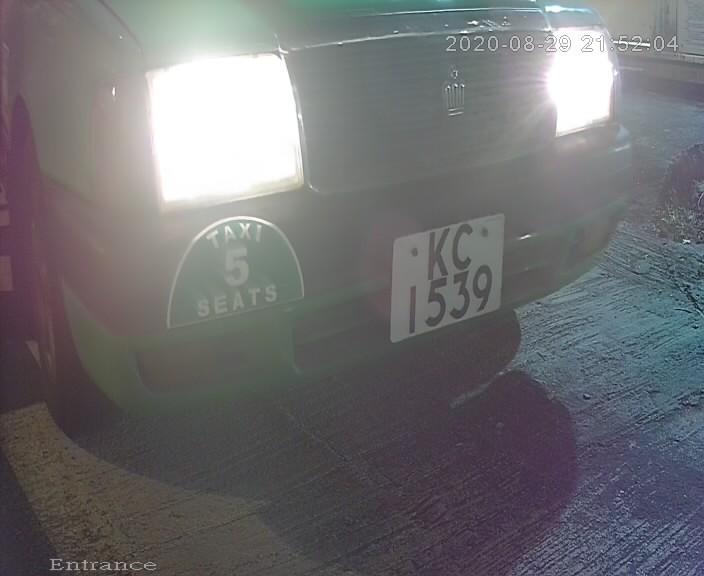License Plate: (381, 199, 510, 350)
